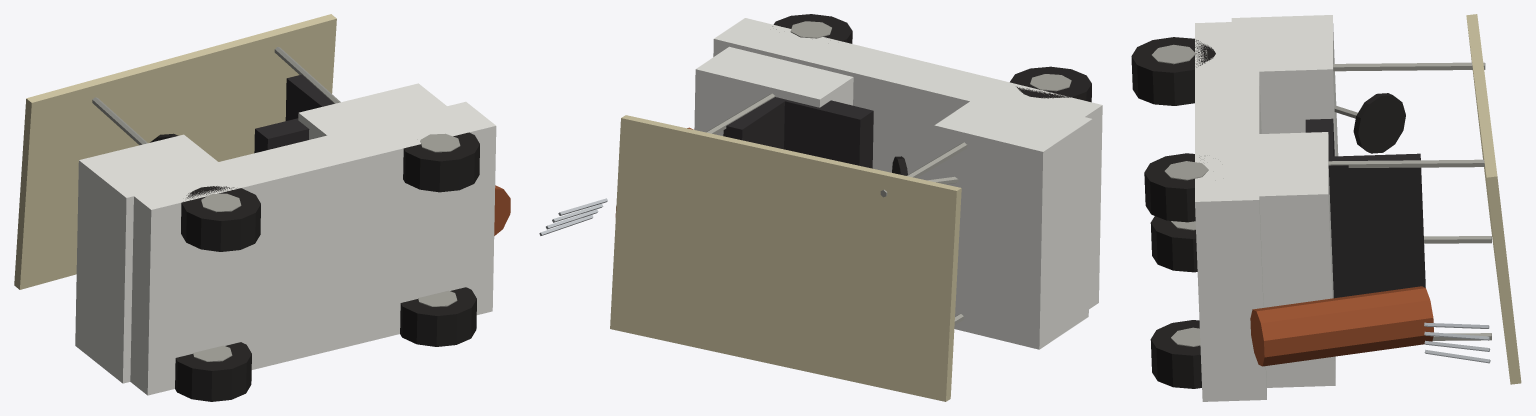
Rendered from golf_cart_over.glb.
The picture shows the model from 3 angles, left to right: view 1: azimuth 30°, elevation 25°; view 2: azimuth 150°, elevation 25°; view 3: azimuth 270°, elevation 25°; orthographic projection. The views are drawn at different scales.
Visible parts, largest first — view 1: golf_cart_over; view 2: golf_cart_over; view 3: golf_cart_over.
Boxes of the visible parts, box(x1,y1,x2,y2) form: golf_cart_over: box(14, 14, 510, 401); golf_cart_over: box(539, 14, 1102, 401); golf_cart_over: box(1131, 14, 1521, 401).
Size of the model in its own units: 2.75 by 1.29 by 2.12.
